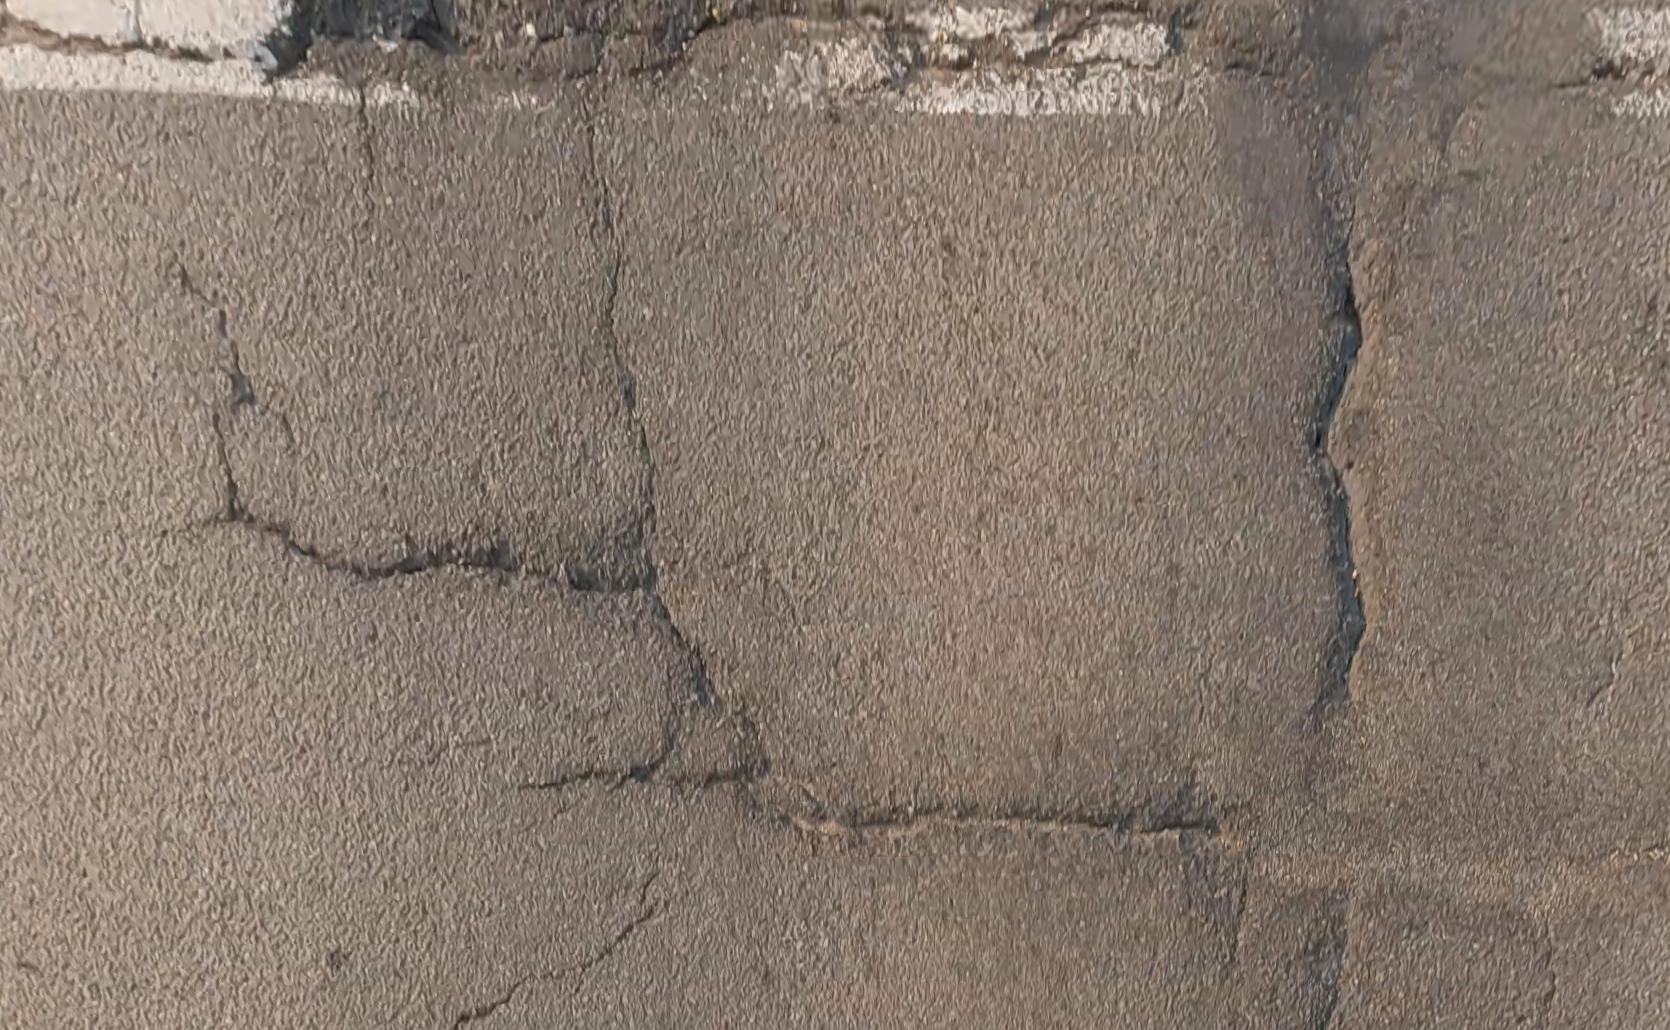pothole: (243, 0, 612, 99)
